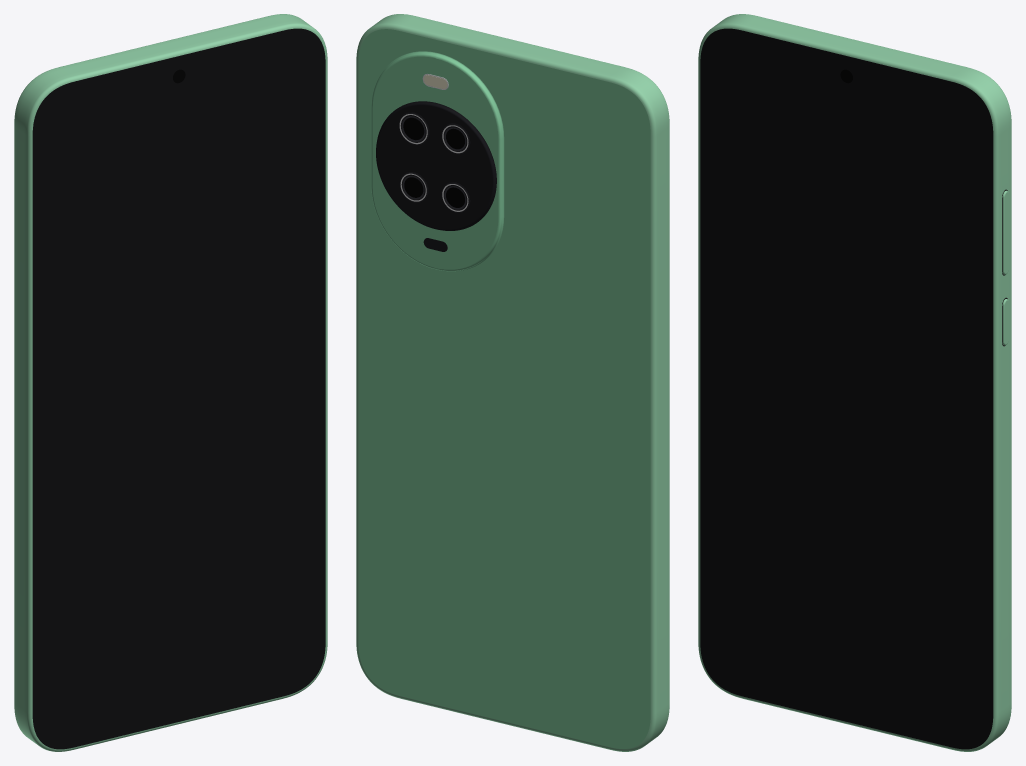
Rendered from huawei-nova-15.glb.
3 views of the same model, side by side, from view 1: azimuth 30°, elevation 25°; view 2: azimuth 150°, elevation 25°; view 3: azimuth 330°, elevation 25° (orthographic).
Visible parts, largest first — view 1: body; view 2: body, camera; view 3: body, buttons.
Part boxes in pixels (<box>): body: <box>14,14,327,751</box>; body: <box>356,14,669,751</box>; camera: <box>371,51,504,271</box>; body: <box>698,14,1011,751</box>; buttons: <box>1002,189,1008,346</box>.
Bounding box in the file's own units: 75.93 × 162 × 9.38.
